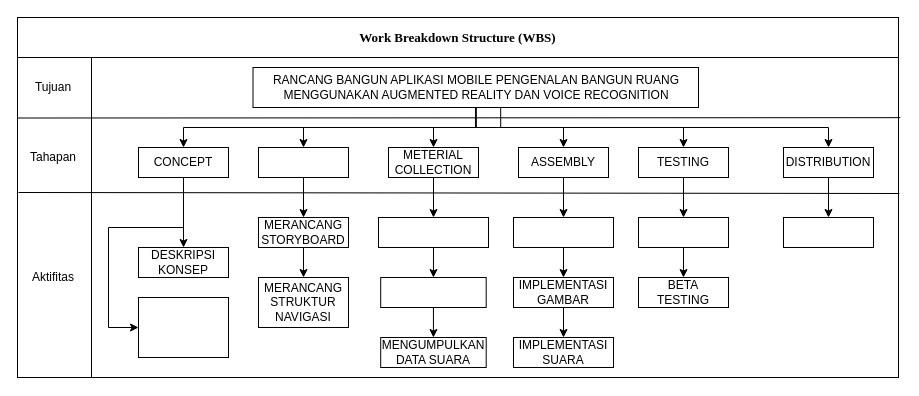
Image size: 919x396. Some labels were removed from this diagram. The shapes that lost their labels are listed below. From the top down, each one's centre as x and y in pixels, then its label:
point 303,162: DESIGN
point 433,232: MENGUMPULKAN DATA TEKS
point 563,232: IMPLEMENTASI TEKS
point 683,232: APLHA TESTING
point 828,232: SHARE PROJECT
point 433,292: MENGUMPULKAN DATA GAMBAR
point 183,327: DESKRIPSI KEBUTUHAN PERANGKAT KERAS
